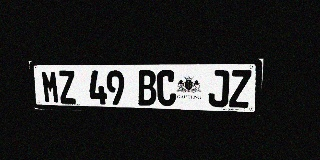4: (88, 70, 107, 105)
9: (106, 70, 125, 105)
B: (137, 70, 157, 106)
C: (157, 70, 176, 106)
J: (208, 70, 230, 107)
M: (41, 70, 60, 103)
Z: (229, 70, 252, 108), (57, 70, 77, 104)
